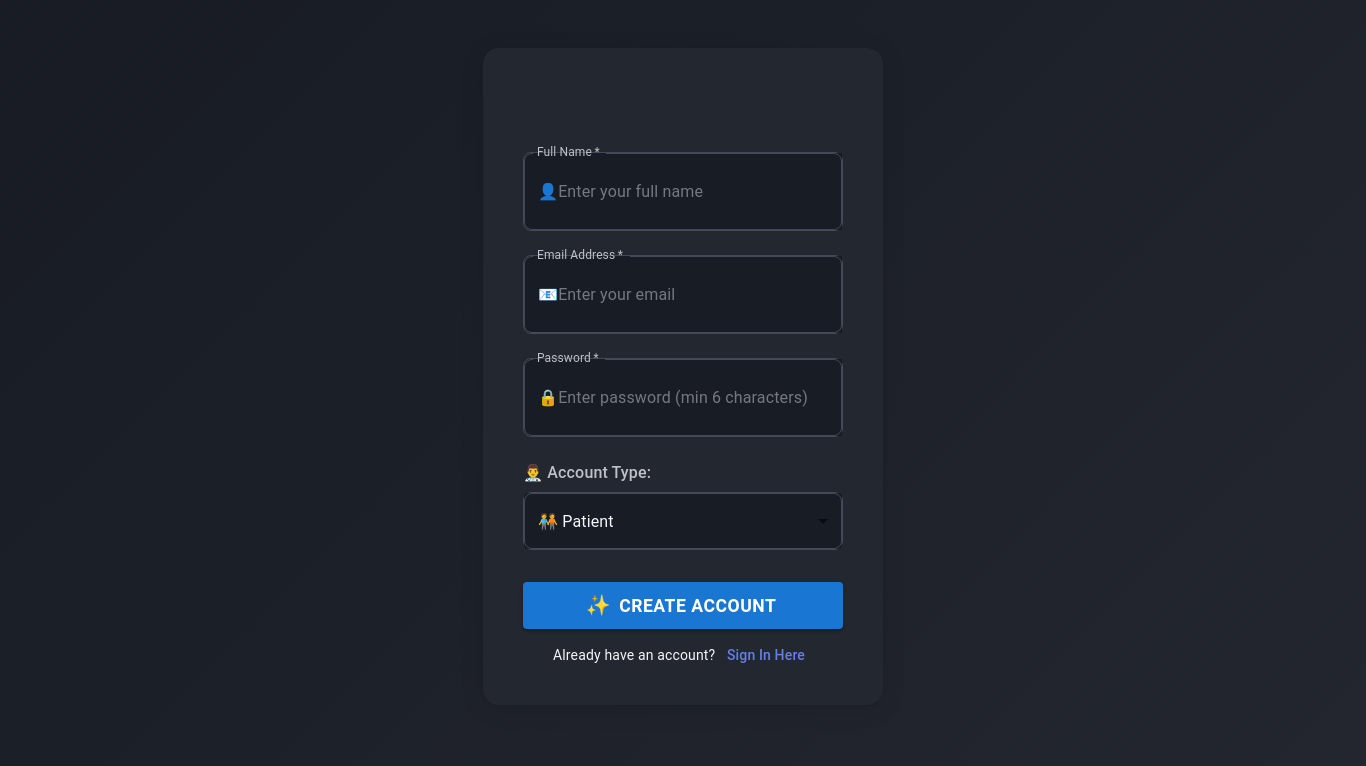
Register Component (API) › registers user and shows success message
Step 1. Type "Test User" into the field labelled "Full Name *" → [700, 192], box left=558, top=153, right=842, bottom=230
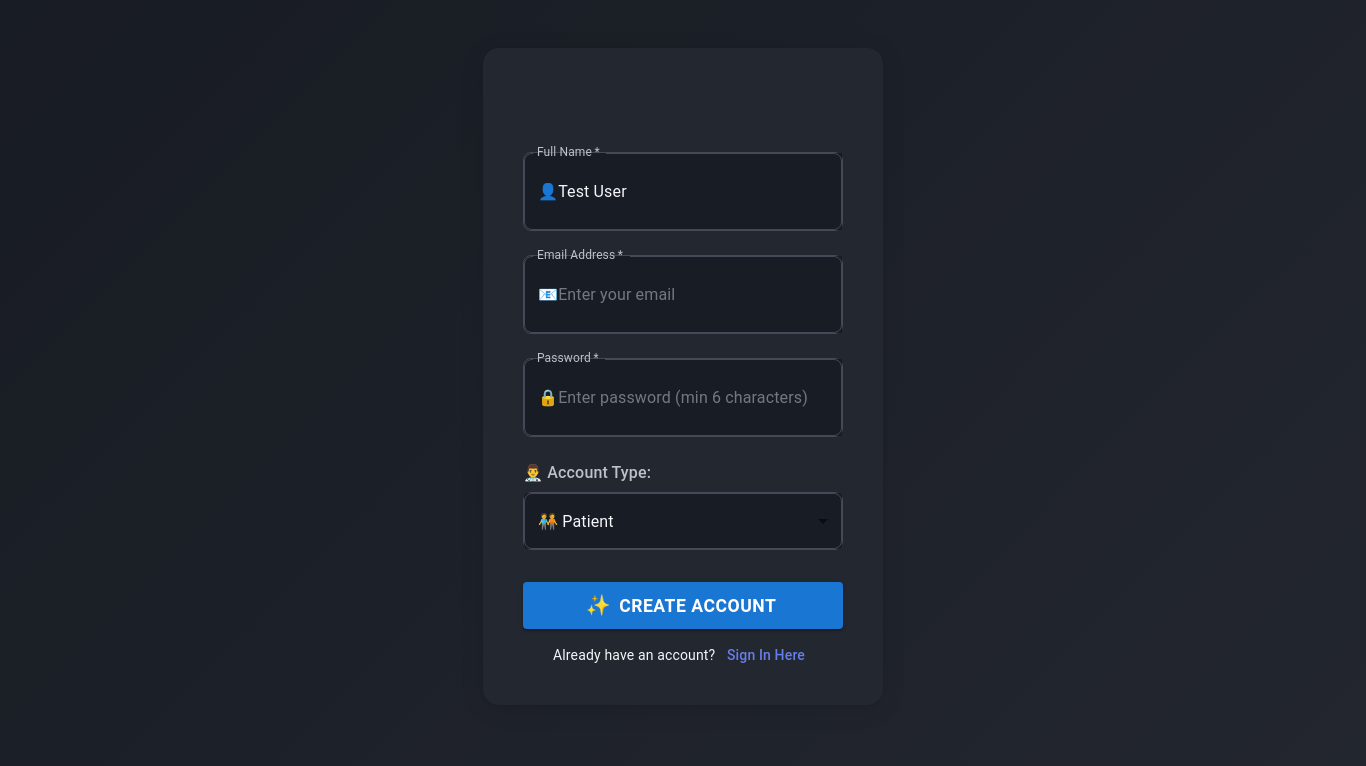
Step 2. Type "test@example.com" into the field labelled "Email Address *" → [700, 295], box left=558, top=256, right=842, bottom=333
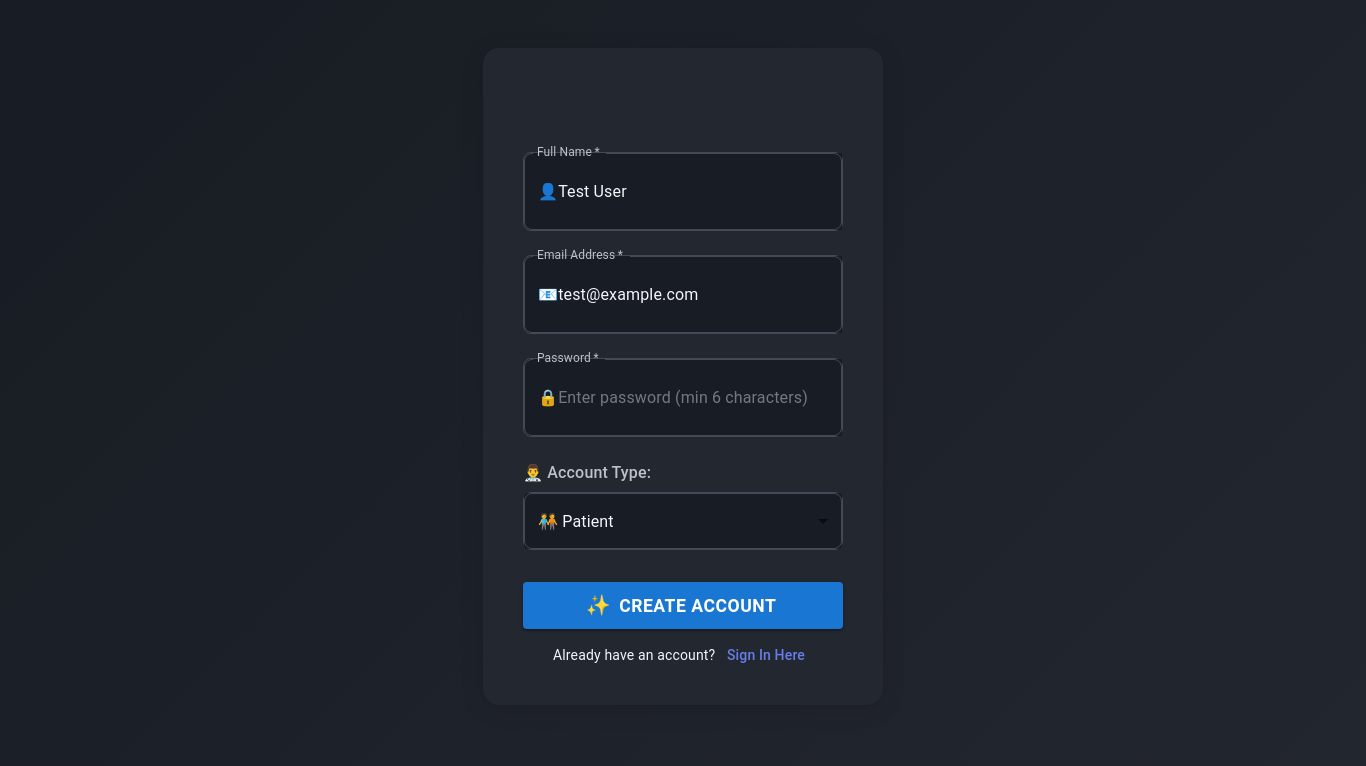
Step 3. Type "password123" into the password field labelled "Password *" → [700, 398], box left=558, top=359, right=842, bottom=436
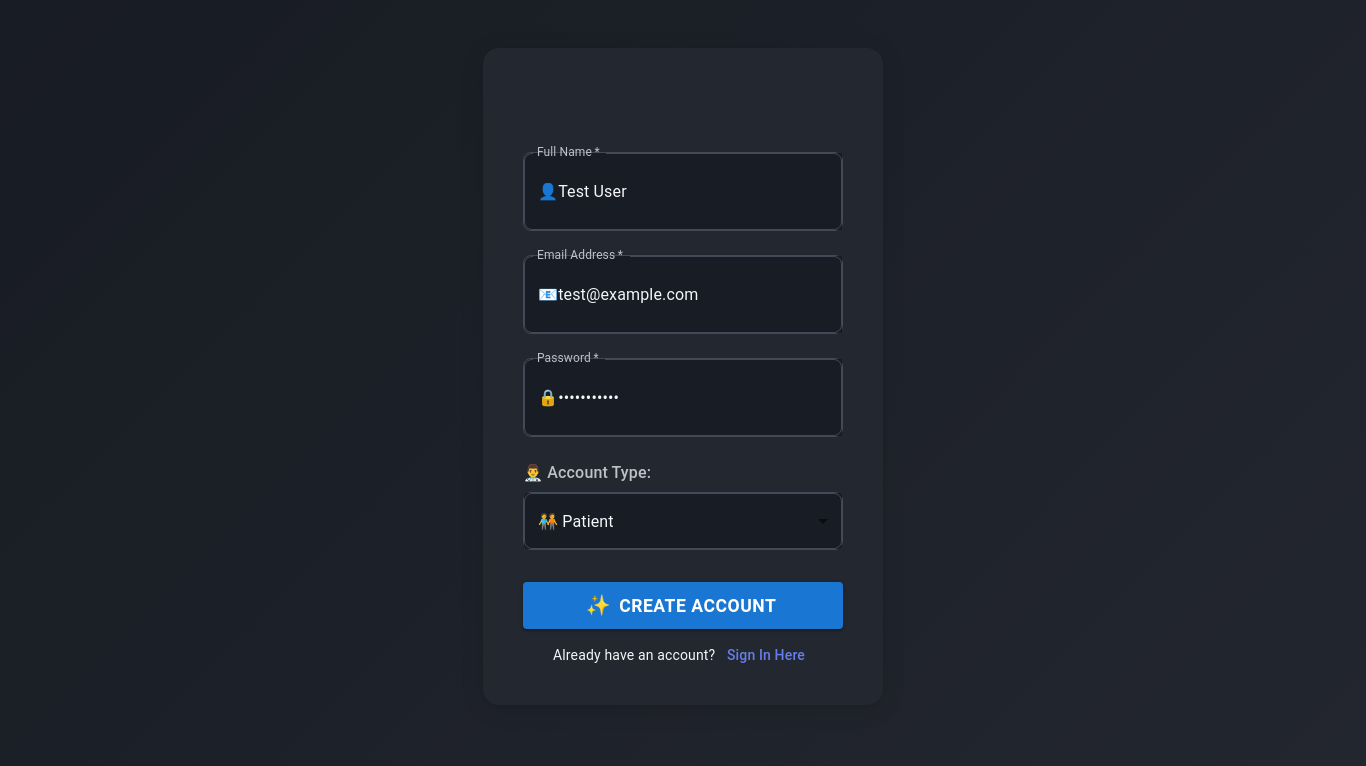
Step 4. Click the button "✨ Create Account" → [683, 606], box left=523, top=582, right=843, bottom=629
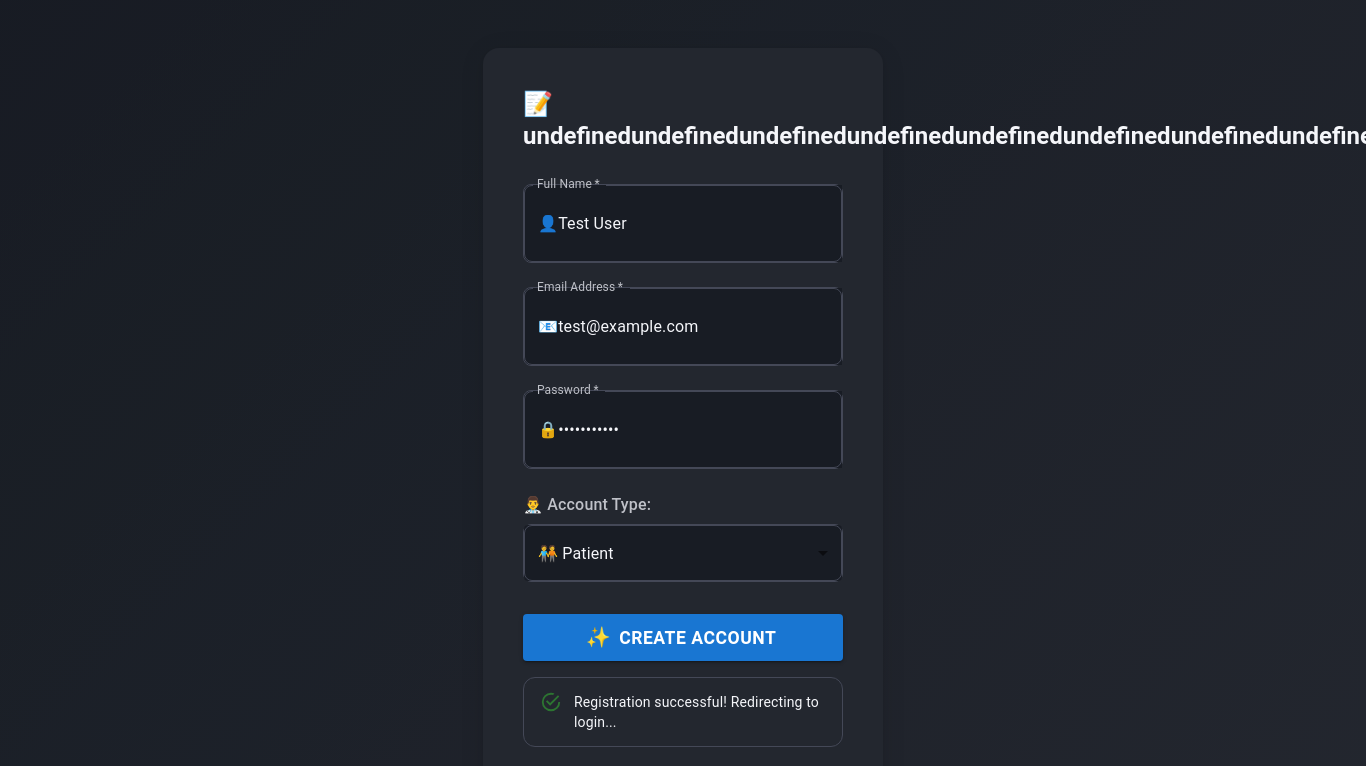
Expected: the text "Registration successful! Redirecting to login..." is shown, left=574, top=684, right=826, bottom=740
